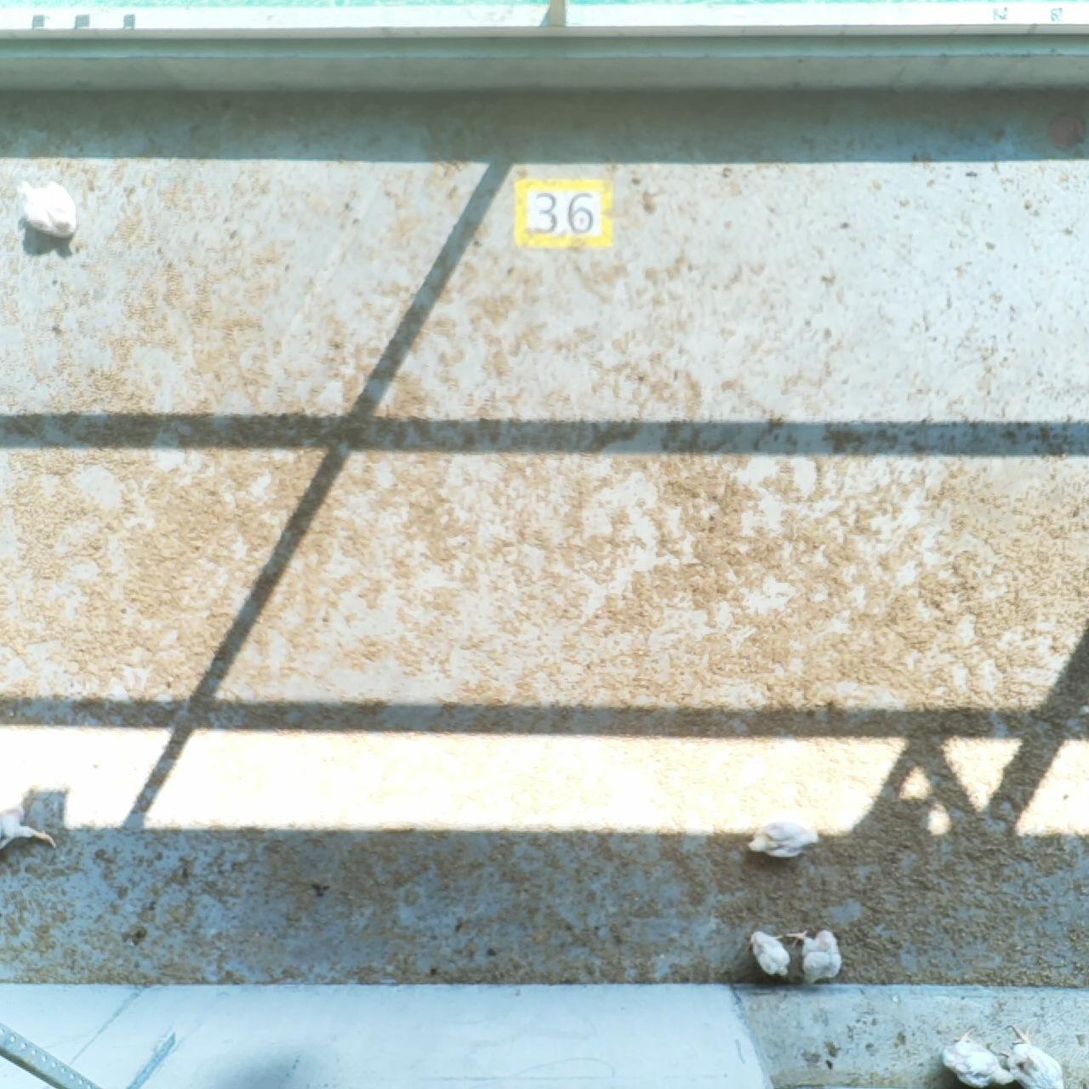chicken: (1001, 1024, 1071, 1089), (1, 801, 65, 862), (945, 1030, 1008, 1089), (19, 180, 78, 239), (745, 821, 822, 862), (795, 933, 844, 990), (758, 932, 790, 978)
